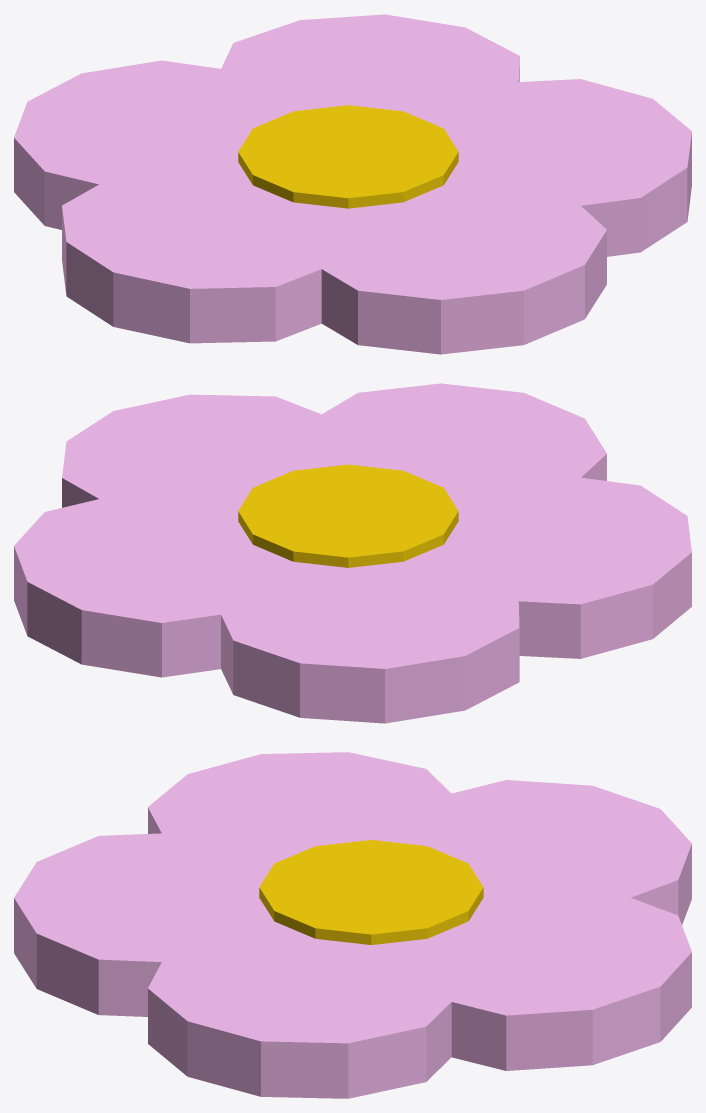
Rendered from teleport_pad.fbx.
The picture shows the model from 3 angles, top to bottom: view 1: azimuth 30°, elevation 25°; view 2: azimuth 150°, elevation 25°; view 3: azimuth 270°, elevation 25°; orthographic projection.
Parts seen in each view (by area): view 1: teleport_pad; view 2: teleport_pad; view 3: teleport_pad.
Part boxes in pixels (x1=…): teleport_pad: x1=14, y1=14, x2=691, y2=354; teleport_pad: x1=14, y1=383, x2=691, y2=723; teleport_pad: x1=14, y1=752, x2=691, y2=1098.
Size of the model in its own units: 0.4257 by 0.045 by 0.4189.
